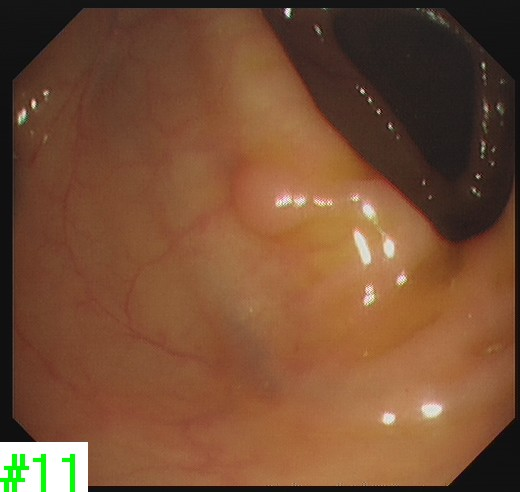adenoma: (226, 158, 325, 238)
